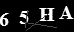5: (18, 10, 29, 25)
6: (1, 12, 9, 27)
A: (58, 5, 74, 20)
H: (37, 7, 55, 22)
